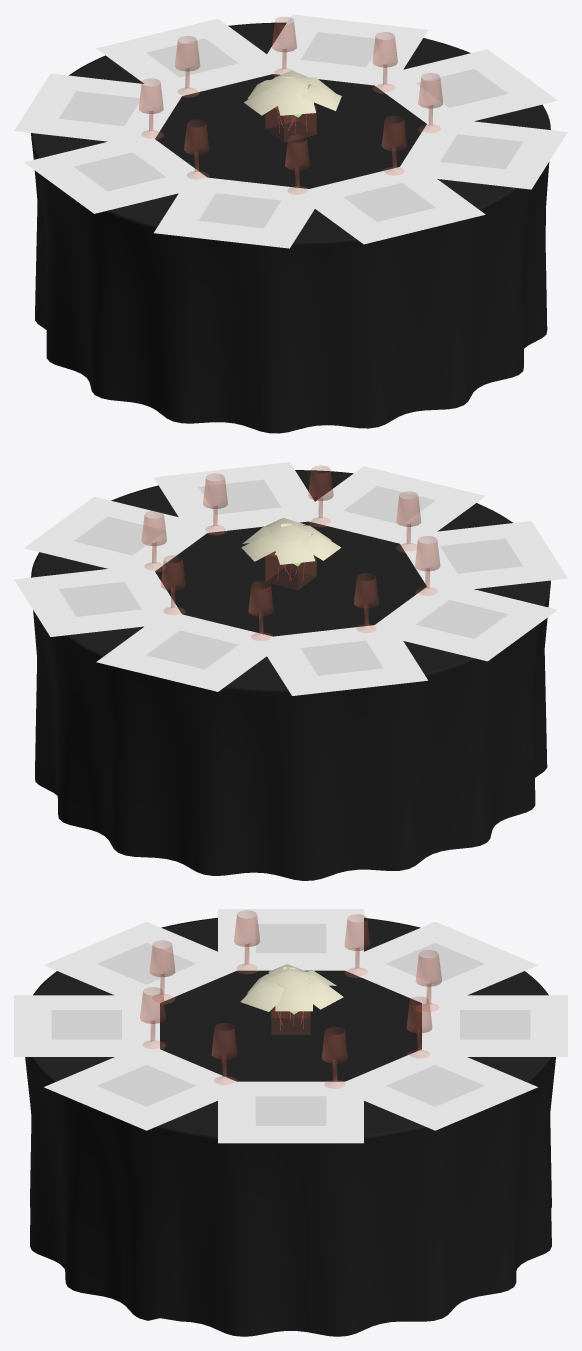
The model's file is table.glb.
3 views of the same model, one above another, from view 1: azimuth 30°, elevation 25°; view 2: azimuth 150°, elevation 25°; view 3: azimuth 270°, elevation 25° (orthographic). The views are drawn at different scales.
Parts seen in each view (by area): view 1: Table.009; view 2: Table.009; view 3: Table.009.
Part boxes in pixels (x1,y1,x2,y2): Table.009: [14, 14, 567, 433]; Table.009: [14, 462, 567, 880]; Table.009: [14, 909, 567, 1336].
Bounding box in the file's own units: 3.84 × 1.95 × 3.84.
